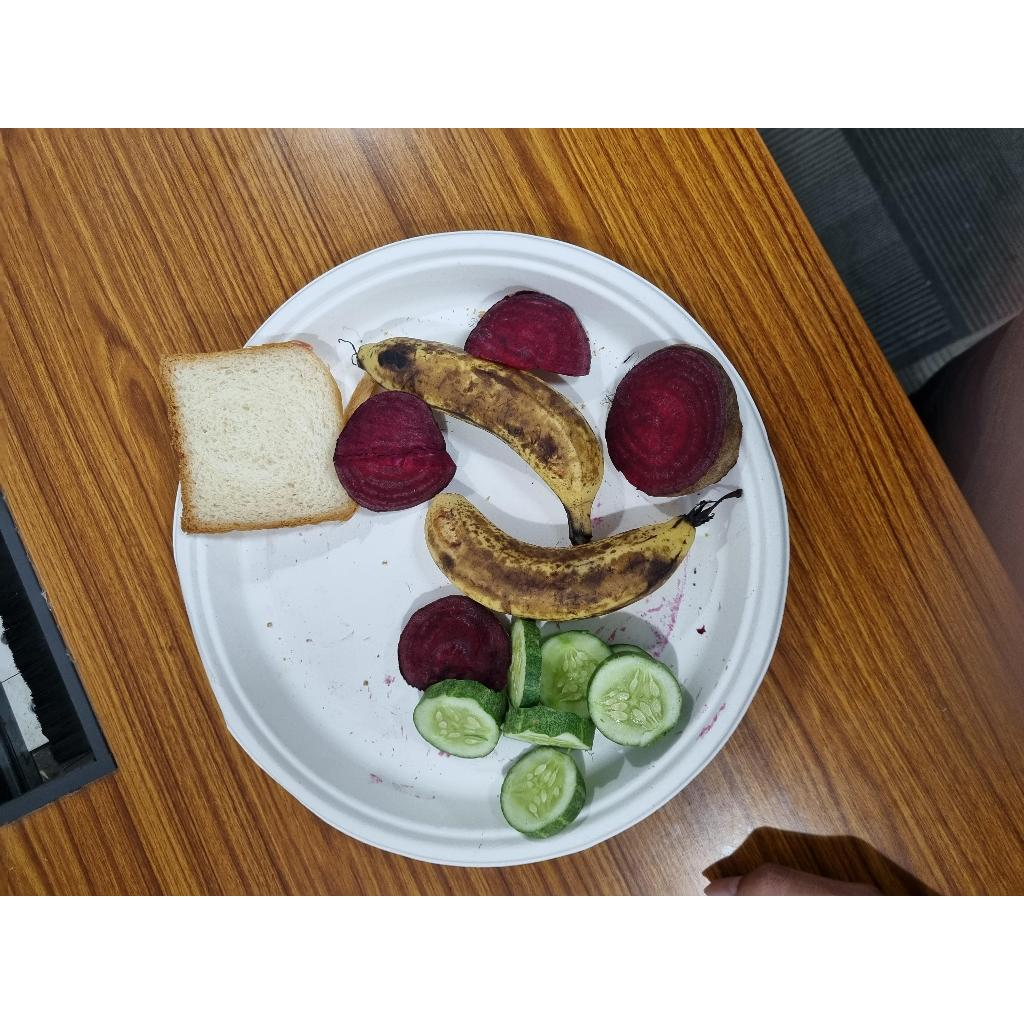banana: (357, 337, 604, 543), (425, 493, 695, 621)
